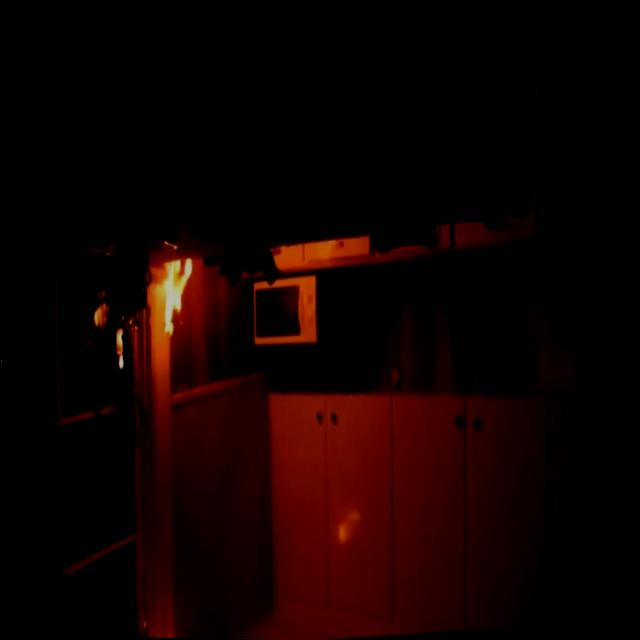fire: (142, 245, 200, 350)
